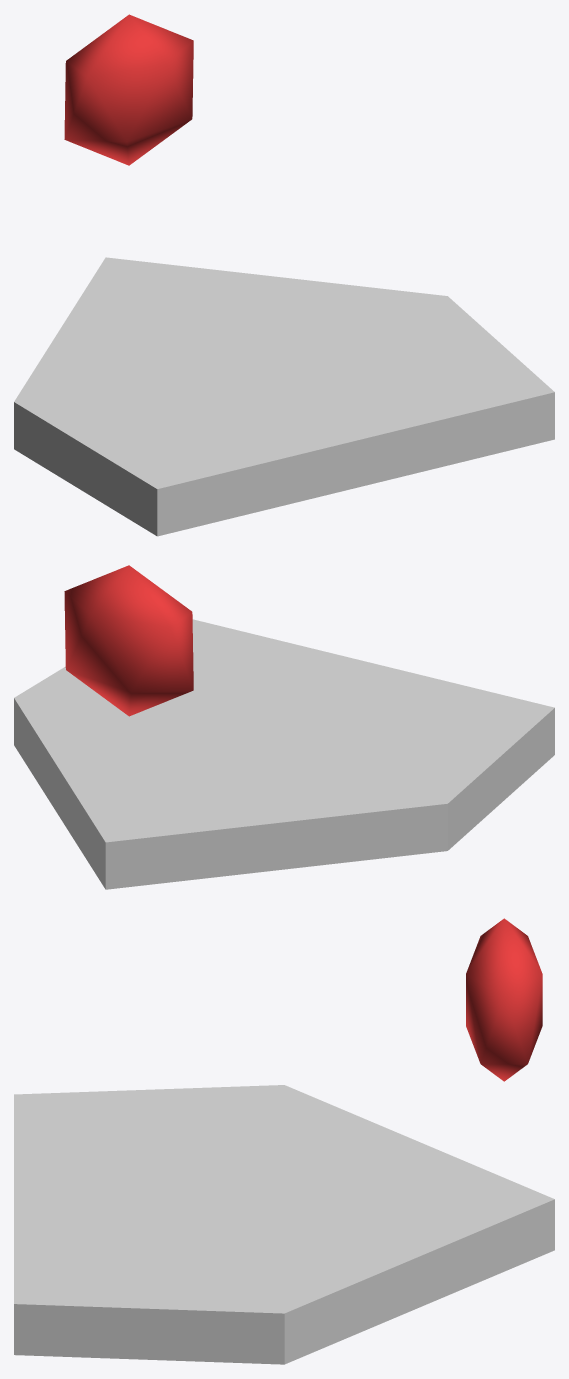
File: celestial_emblem.glb
The picture shows the model from 3 angles, top to bottom: view 1: azimuth 30°, elevation 25°; view 2: azimuth 150°, elevation 25°; view 3: azimuth 270°, elevation 25°; orthographic projection. The views are drawn at different scales.
Parts seen in each view (by area): view 1: celestial_emblem_v0; view 2: celestial_emblem_v0; view 3: celestial_emblem_v0.
Boxes of the visible parts, x1,y1,x2,y2 form: celestial_emblem_v0: (14, 14, 554, 536); celestial_emblem_v0: (14, 565, 554, 889); celestial_emblem_v0: (14, 918, 554, 1364).
Bounding box in the file's own units: 0.24 × 0.1625 × 0.24.
